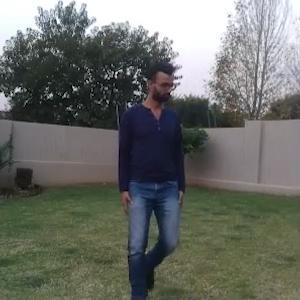follow: (114, 38, 190, 297)
